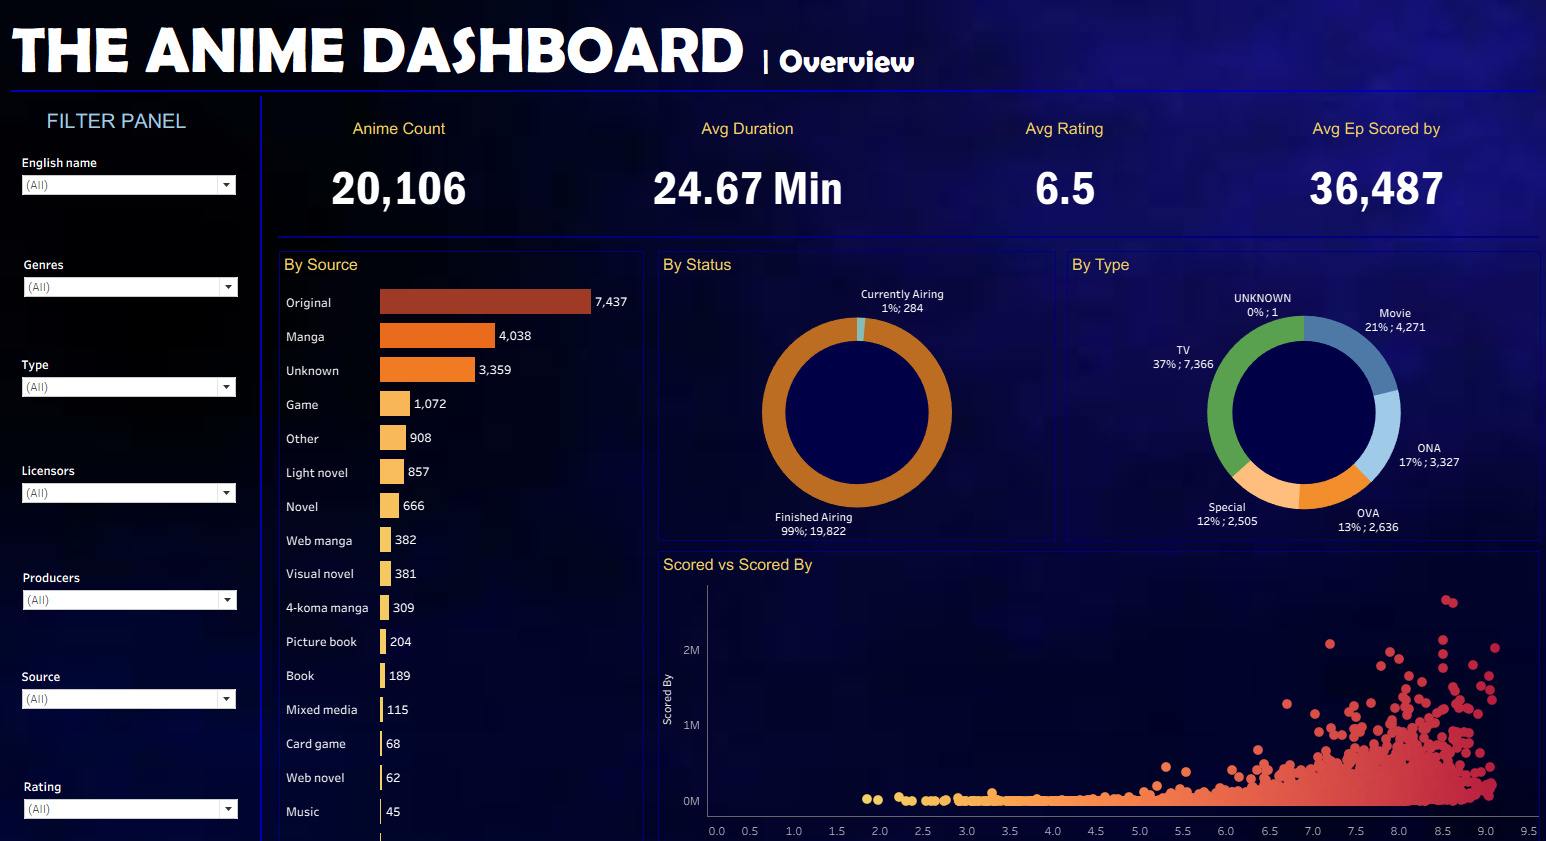

This screenshot's page, from the dashboard's own definition file:
{"tool":"tableau","page":{"name":"Anime Dashboard by Type","canvas":[1600,900],"ordinal":2},"visuals":[{"type":"image","param":"Image/abstract-white-smoke-in-slow-mot.jpg","box":[8,8,1584,884]},{"type":"text","box":[35,24,1268,79]},{"type":"blank","box":[37,104,1527,2]},{"type":"blank","box":[286,110,2,766]},{"type":"text","box":[70,120,156,30]},{"type":"worksheet","title":"Anime Count","mark":"Automatic","box":[310,130,230,110]},{"type":"worksheet","title":"Avg Duration","mark":"Automatic","box":[631,130,285,110]},{"type":"worksheet","title":"Avg Rating","mark":"Automatic","box":[954,130,273,110]},{"type":"worksheet","title":"Avg Ep Scored by","mark":"Automatic","box":[1247,130,311,110]},{"type":"filter","title":"By Source","param":"[federated.1jnuf3b0e8a84v1d2peg80mjigwo].[none:English name:nk]","box":[45,168,220,60]},{"type":"blank","box":[304,250,1261,2]},{"type":"worksheet","title":"By Source","mark":"Automatic","rows":["Source"],"cols":["anime_id"],"box":[305,265,365,612]},{"type":"worksheet","title":"By Status","mark":"Pie","rows":["Calculation_923519409872236545","Calculation_923519409872252931"],"box":[684,265,398,290]},{"type":"worksheet","title":"By Type","mark":"Pie","rows":["Calculation_923519409872236545","Calculation_923519409872252931"],"box":[1093,265,474,290]},{"type":"filter","title":"By Source","param":"[federated.1jnuf3b0e8a84v1d2peg80mjigwo].[none:Genres:nk]","box":[47,270,220,60]},{"type":"filter","title":"By Source","param":"[federated.1jnuf3b0e8a84v1d2peg80mjigwo].[none:Type:nk]","box":[45,370,220,60]},{"type":"filter","title":"By Source","param":"[federated.1jnuf3b0e8a84v1d2peg80mjigwo].[none:Licensors:nk]","box":[45,476,220,60]},{"type":"worksheet","title":"Scored vs Scored By","mark":"Automatic","rows":["Scored By"],"cols":["Score"],"box":[684,565,882,312]},{"type":"filter","title":"By Source","param":"[federated.1jnuf3b0e8a84v1d2peg80mjigwo].[none:Producers:nk]","box":[46,583,220,60]},{"type":"filter","title":"By Source","param":"[federated.1jnuf3b0e8a84v1d2peg80mjigwo].[none:Source:nk]","box":[45,682,220,60]},{"type":"filter","title":"By Source","param":"[federated.1jnuf3b0e8a84v1d2peg80mjigwo].[none:Rating:nk]","box":[47,792,220,60]}]}

Visuals, with their boxes on the page's 1600x900 design canvas (x1, y1, x2, y2). These are canvas units, not pixel positions in the 1546x841 screenshot, which may show the page scaled, cropped or inside an application window:
image: [x1=8, y1=8, x2=1592, y2=892]
text: [x1=35, y1=24, x2=1303, y2=103]
blank: [x1=37, y1=104, x2=1564, y2=106]
blank: [x1=286, y1=110, x2=288, y2=876]
text: [x1=70, y1=120, x2=226, y2=150]
"Anime Count" worksheet: [x1=310, y1=130, x2=540, y2=240]
"Avg Duration" worksheet: [x1=631, y1=130, x2=916, y2=240]
"Avg Rating" worksheet: [x1=954, y1=130, x2=1227, y2=240]
"Avg Ep Scored by" worksheet: [x1=1247, y1=130, x2=1558, y2=240]
"By Source" filter: [x1=45, y1=168, x2=265, y2=228]
blank: [x1=304, y1=250, x2=1565, y2=252]
"By Source" worksheet: [x1=305, y1=265, x2=670, y2=877]
"By Status" worksheet (Pie marks): [x1=684, y1=265, x2=1082, y2=555]
"By Type" worksheet (Pie marks): [x1=1093, y1=265, x2=1567, y2=555]
"By Source" filter: [x1=47, y1=270, x2=267, y2=330]
"By Source" filter: [x1=45, y1=370, x2=265, y2=430]
"By Source" filter: [x1=45, y1=476, x2=265, y2=536]
"Scored vs Scored By" worksheet: [x1=684, y1=565, x2=1566, y2=877]
"By Source" filter: [x1=46, y1=583, x2=266, y2=643]
"By Source" filter: [x1=45, y1=682, x2=265, y2=742]
"By Source" filter: [x1=47, y1=792, x2=267, y2=852]
